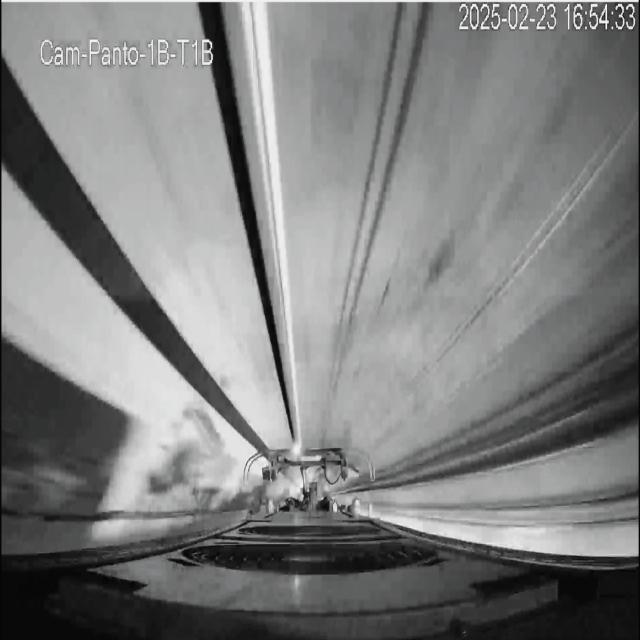Camera Stamp: (37, 31, 219, 69)
Date Stamp: (460, 3, 637, 33)
Sparks: (289, 432, 308, 462)
